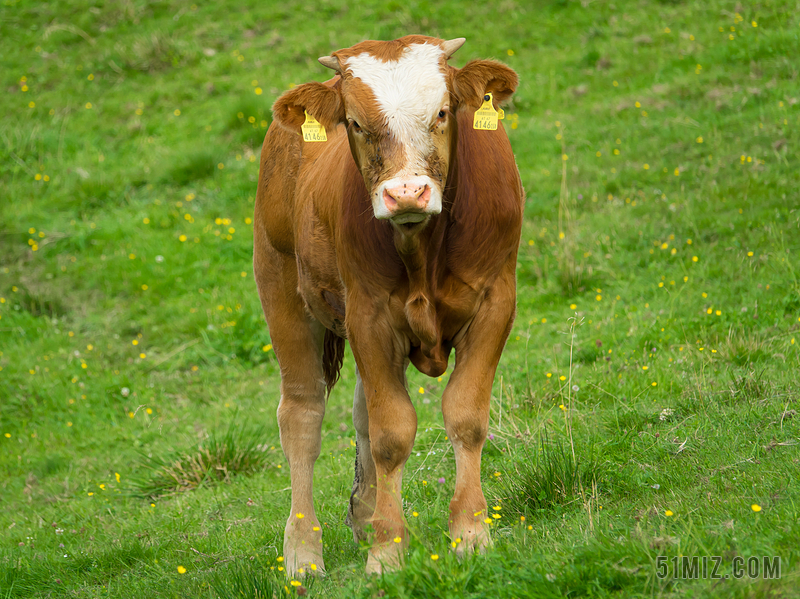background: (249, 32, 527, 579)
